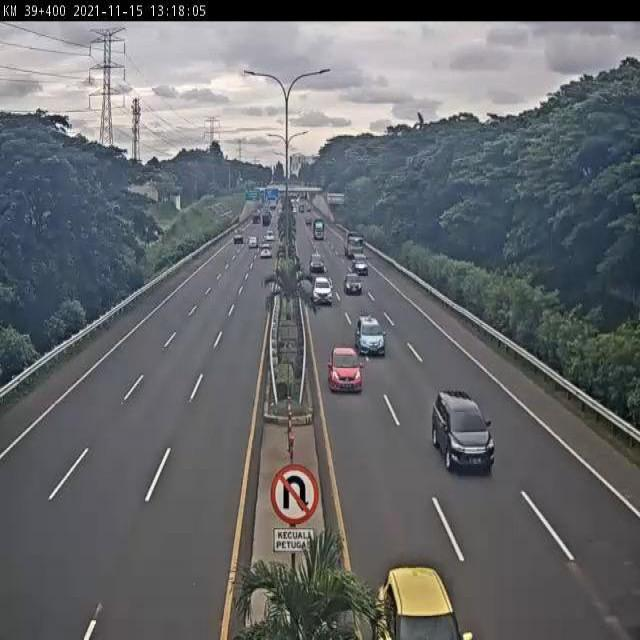car: (355, 315, 386, 356), (310, 274, 334, 306), (342, 272, 364, 297)
